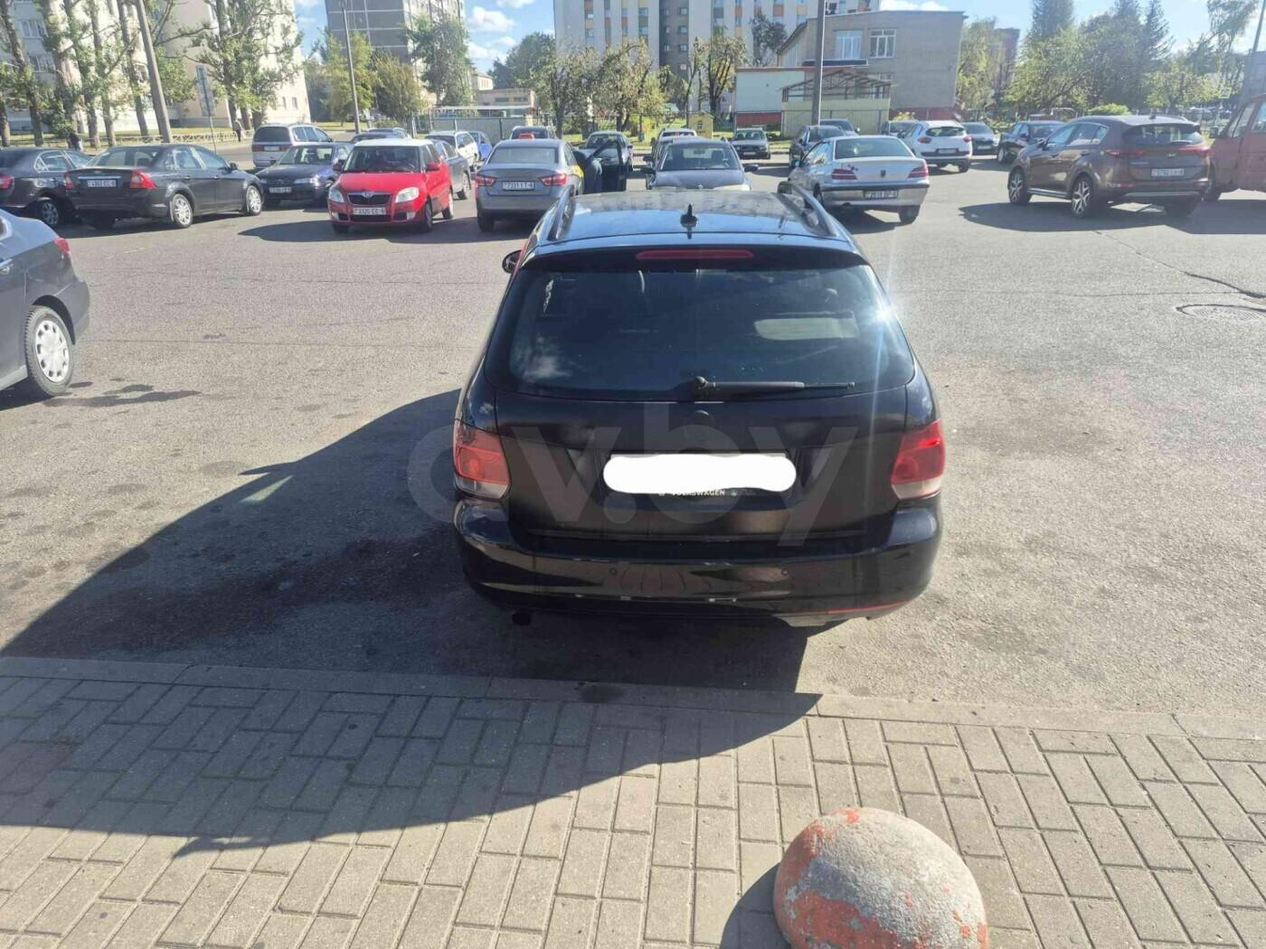Golf_2008-2013: (447, 189, 949, 618)
